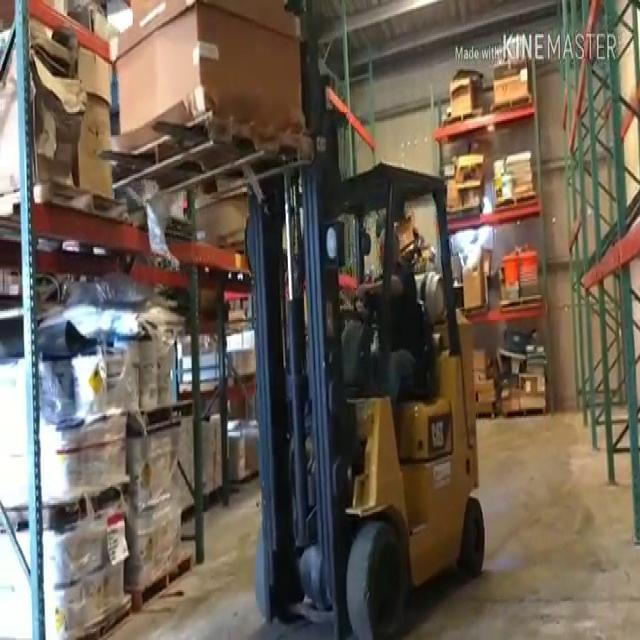forklift: (236, 157, 500, 639)
